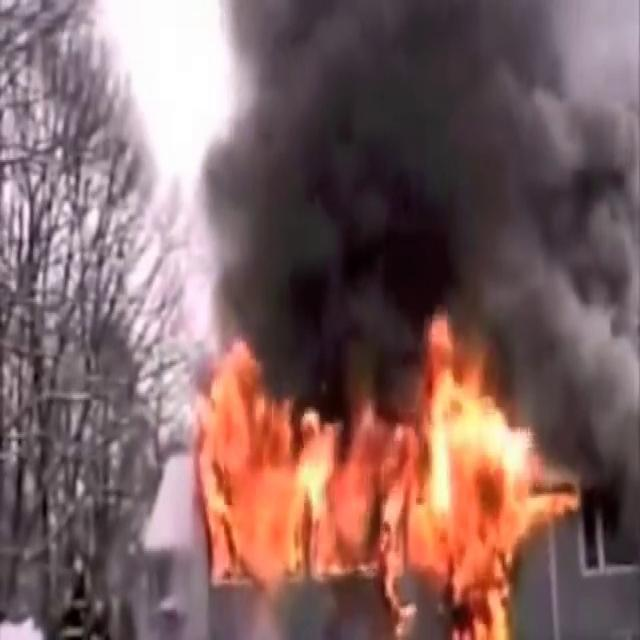Fire: (178, 319, 554, 629)
Smoke: (172, 0, 640, 428)
